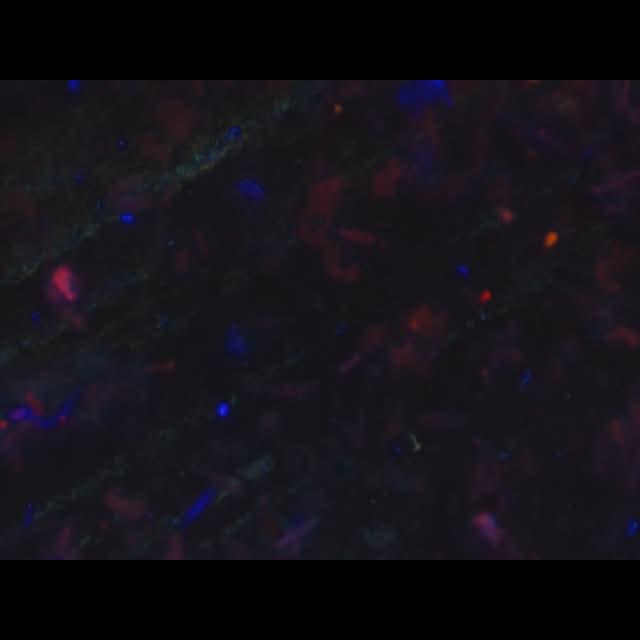Fragment: (54, 264, 76, 300)
